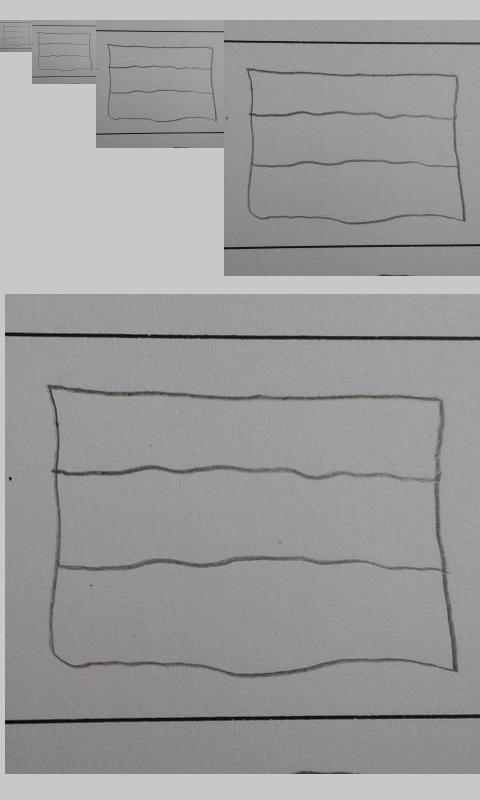list_view: (42, 381, 465, 678), (246, 66, 466, 225), (106, 42, 218, 124), (37, 31, 93, 72), (2, 25, 31, 47)
